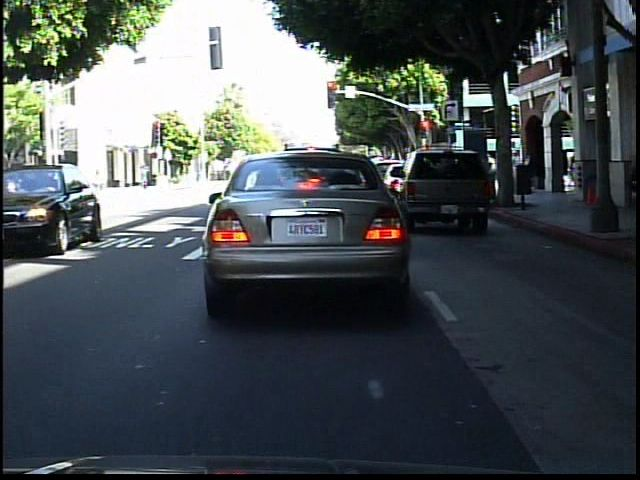car: (195, 144, 423, 312), (395, 145, 500, 241), (5, 134, 84, 260)
